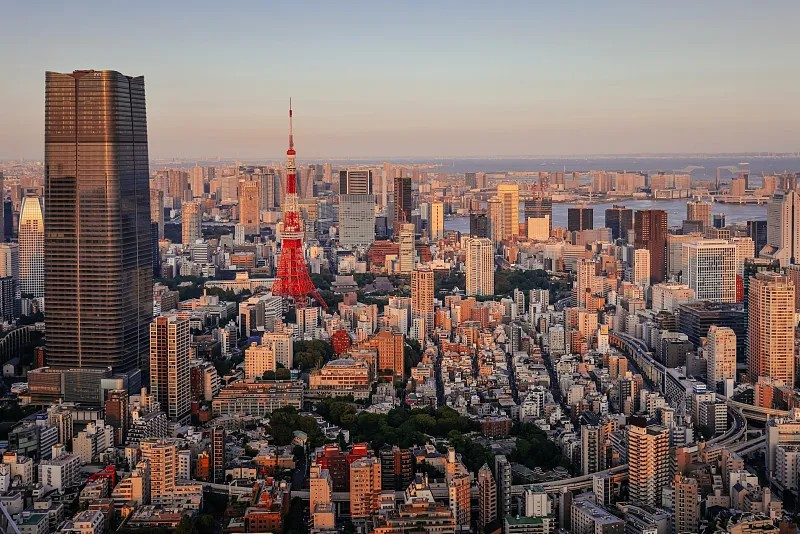Tokyo: (269, 95, 330, 311)
